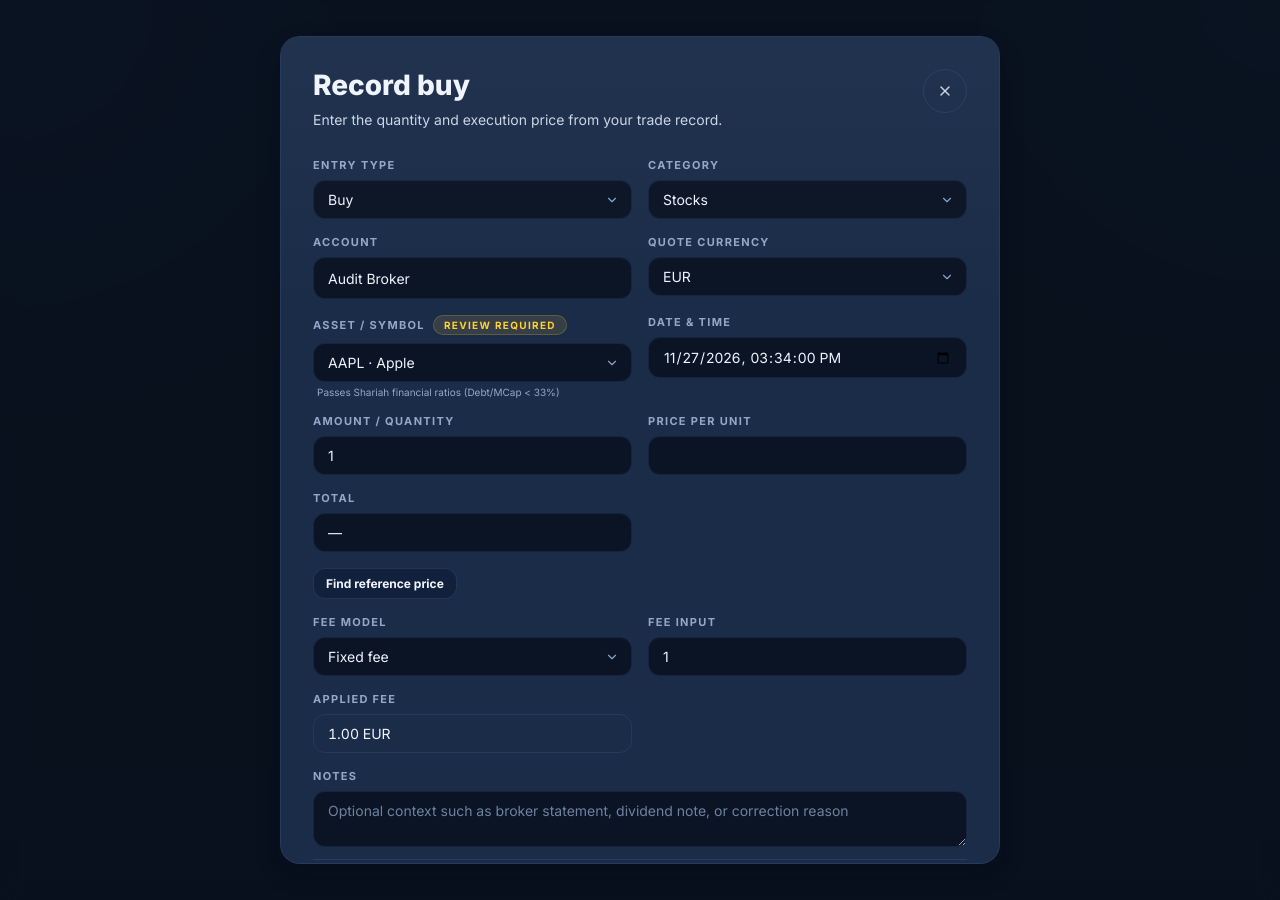
Scenario: cancels a pending reference during the funding handoff and resumes without a stuck lookup
This screenshot has width=1280, height=900.
Select "META · Meta Platforms" in the dropdown labelled "Asset / Symbol" at (472, 363), box [313,343,632,382]
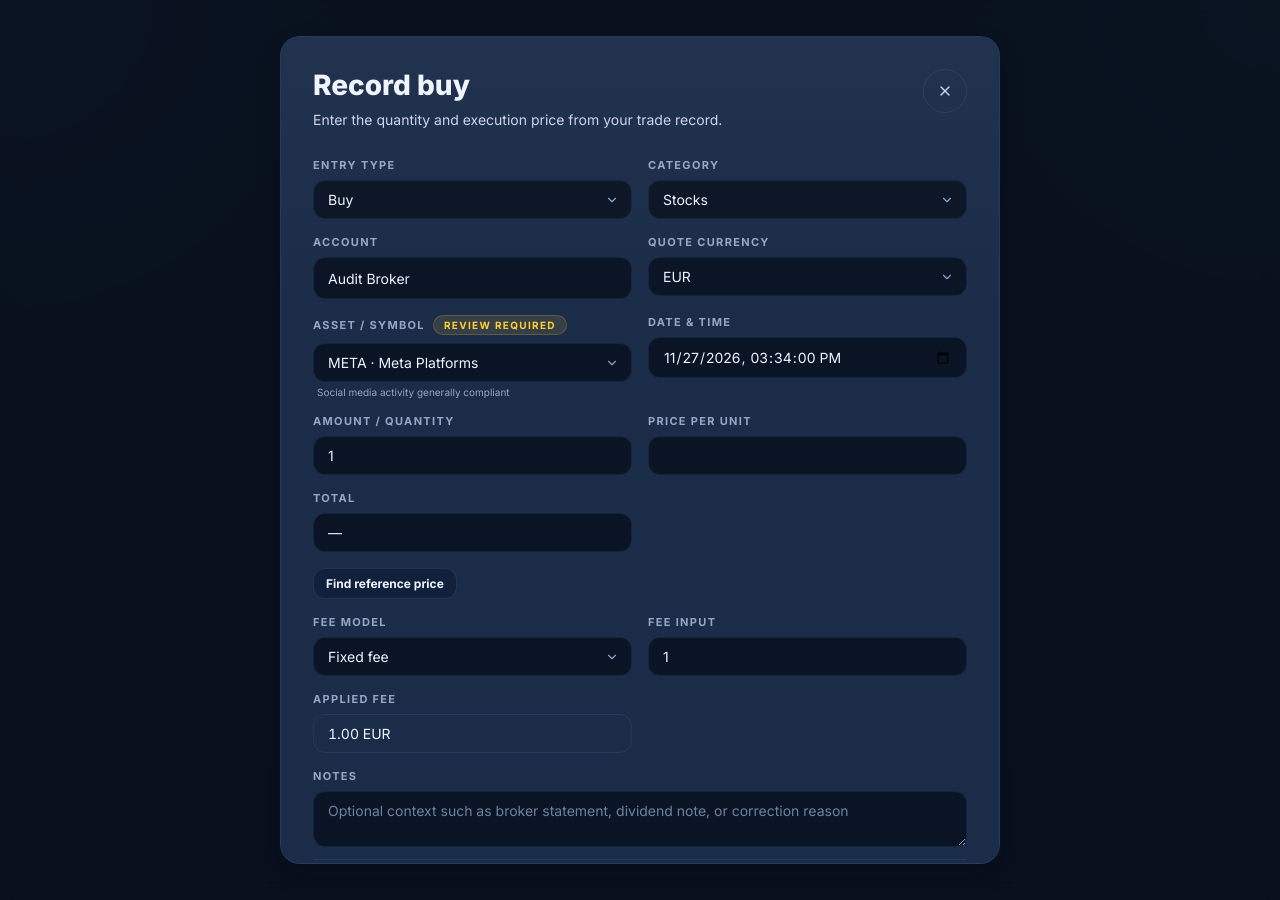
Replace the text in the field labelled "Date & Time" with "2024-11-20T19:33" at (808, 358), box [648,337,967,378]
Replace the text in the field labelled "Amount / Quantity" with "5" at (472, 456), box [313,436,632,475]
Type "23" into the field labelled "Price per Unit" at (808, 456), box [648,436,967,475]
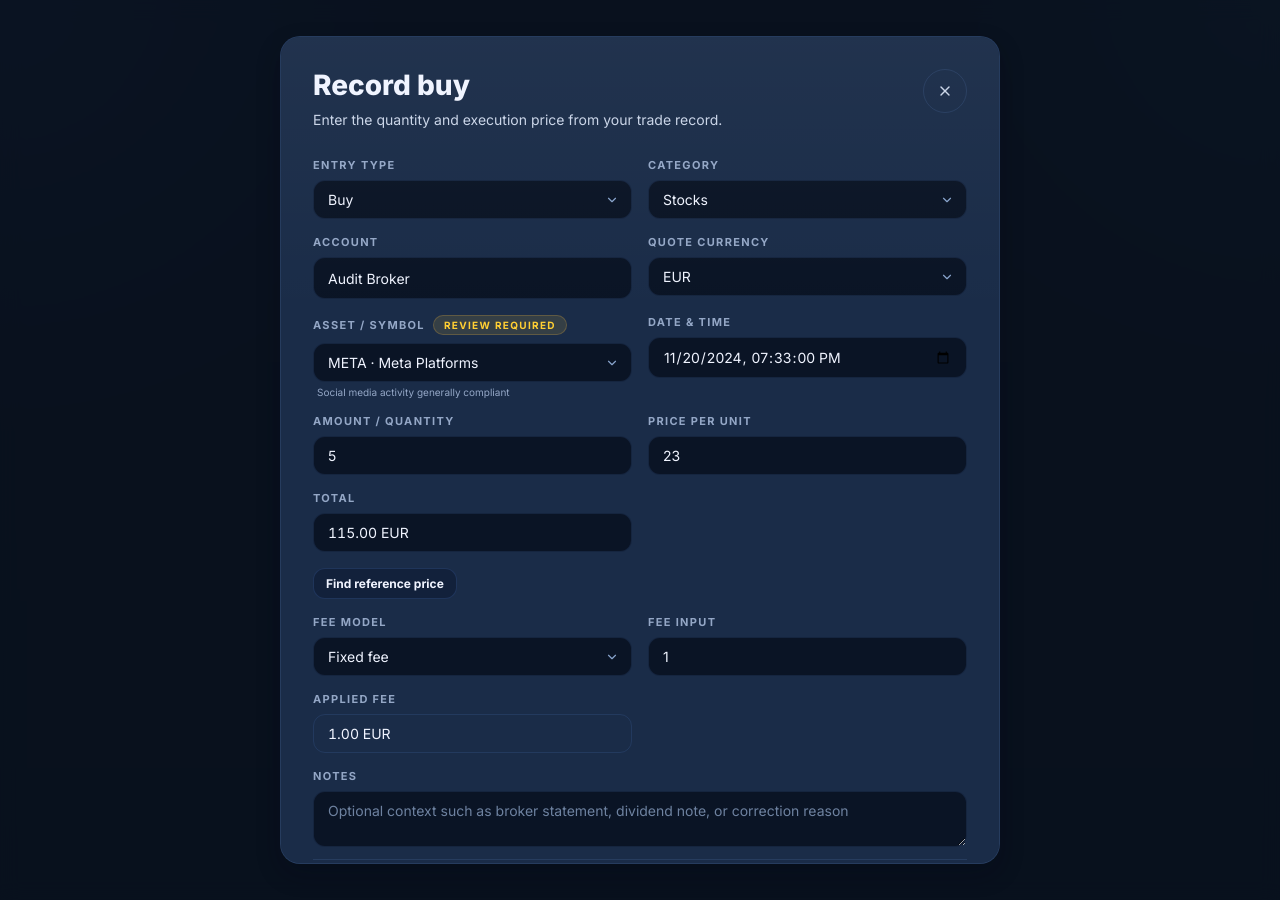
Click the button "Find reference price" at (385, 584), box [313,568,457,599]
(page scrolled)
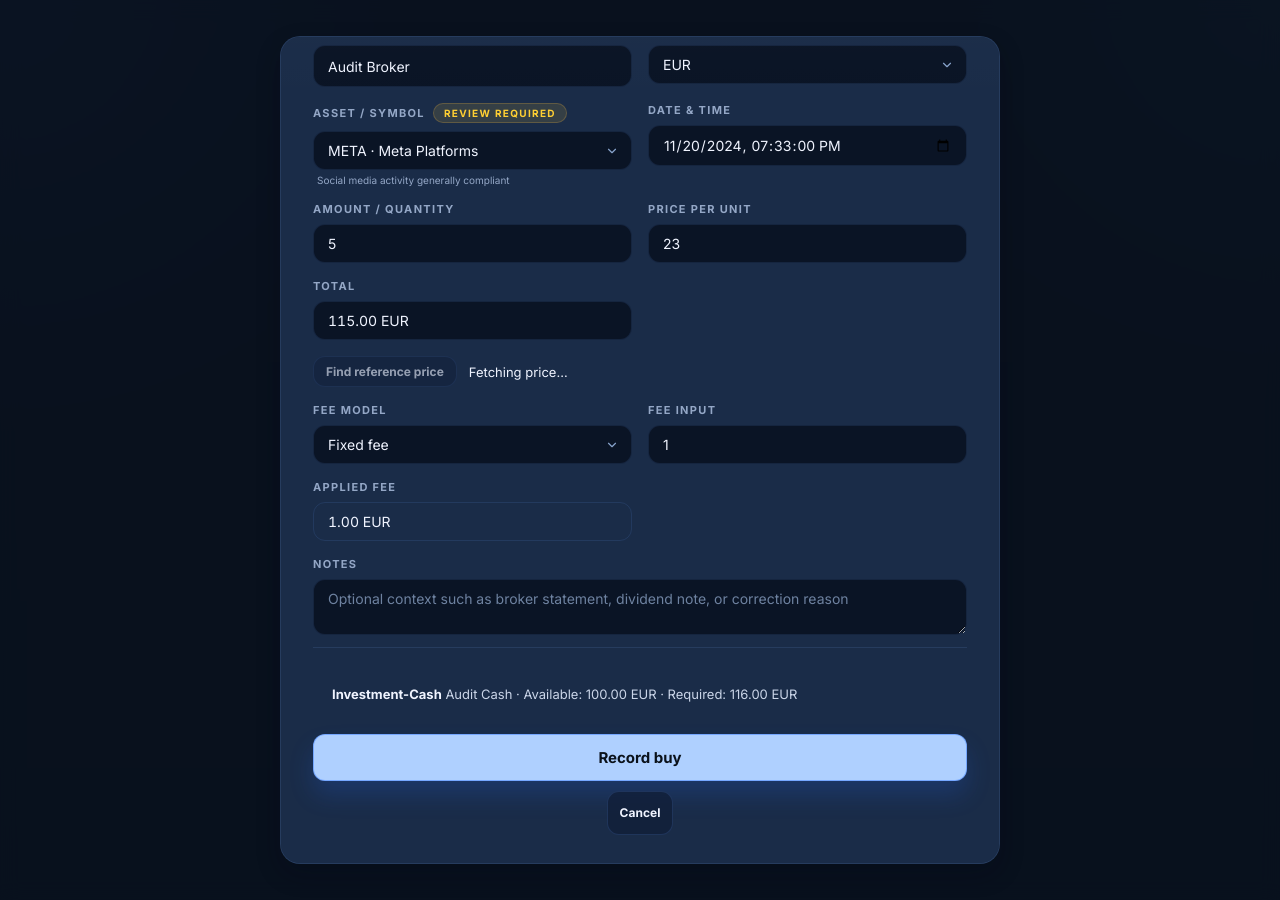
Click the button "Record buy" at (640, 757), box [313,734,967,781]
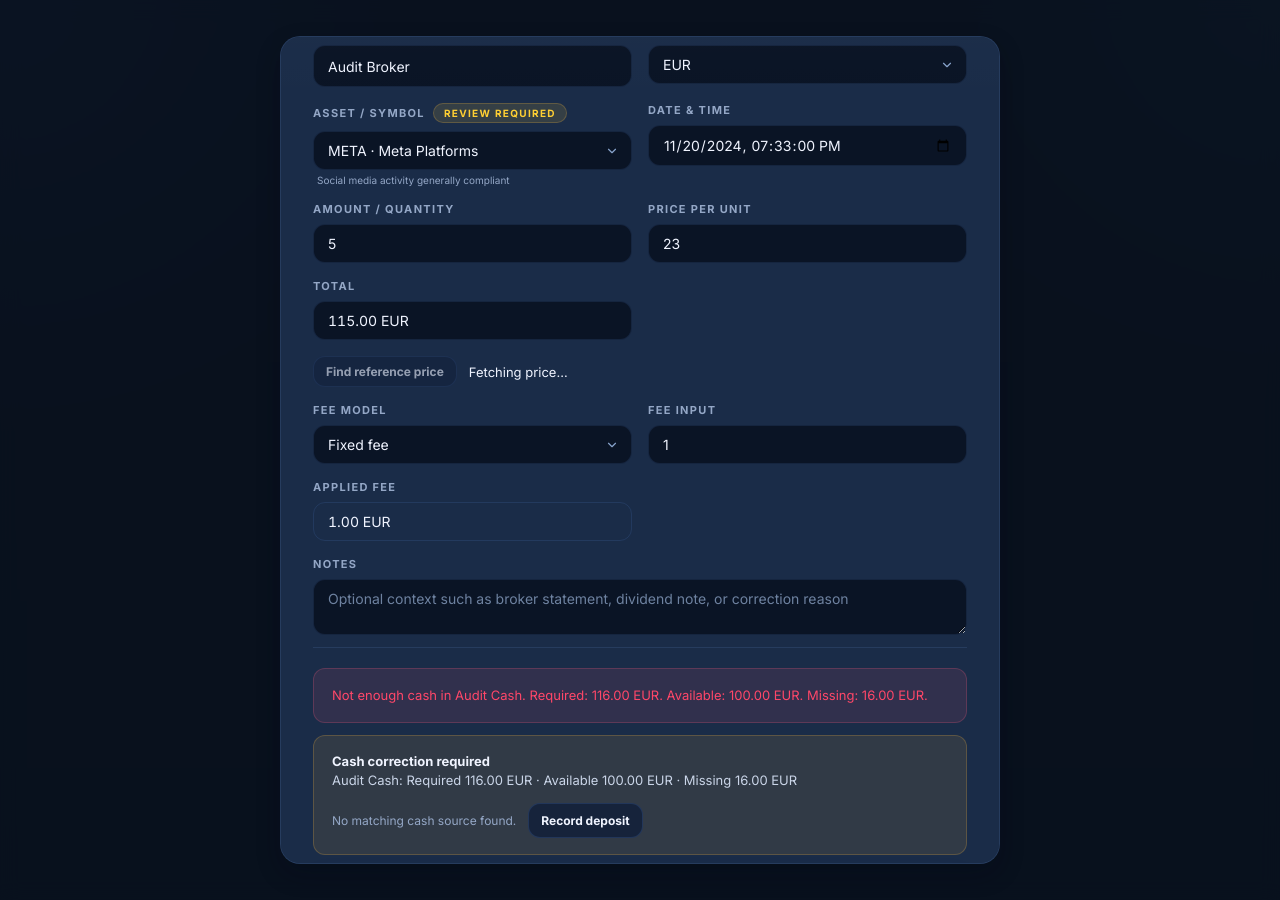
Click the button "Record deposit" at (585, 821), box [528,803,643,838]
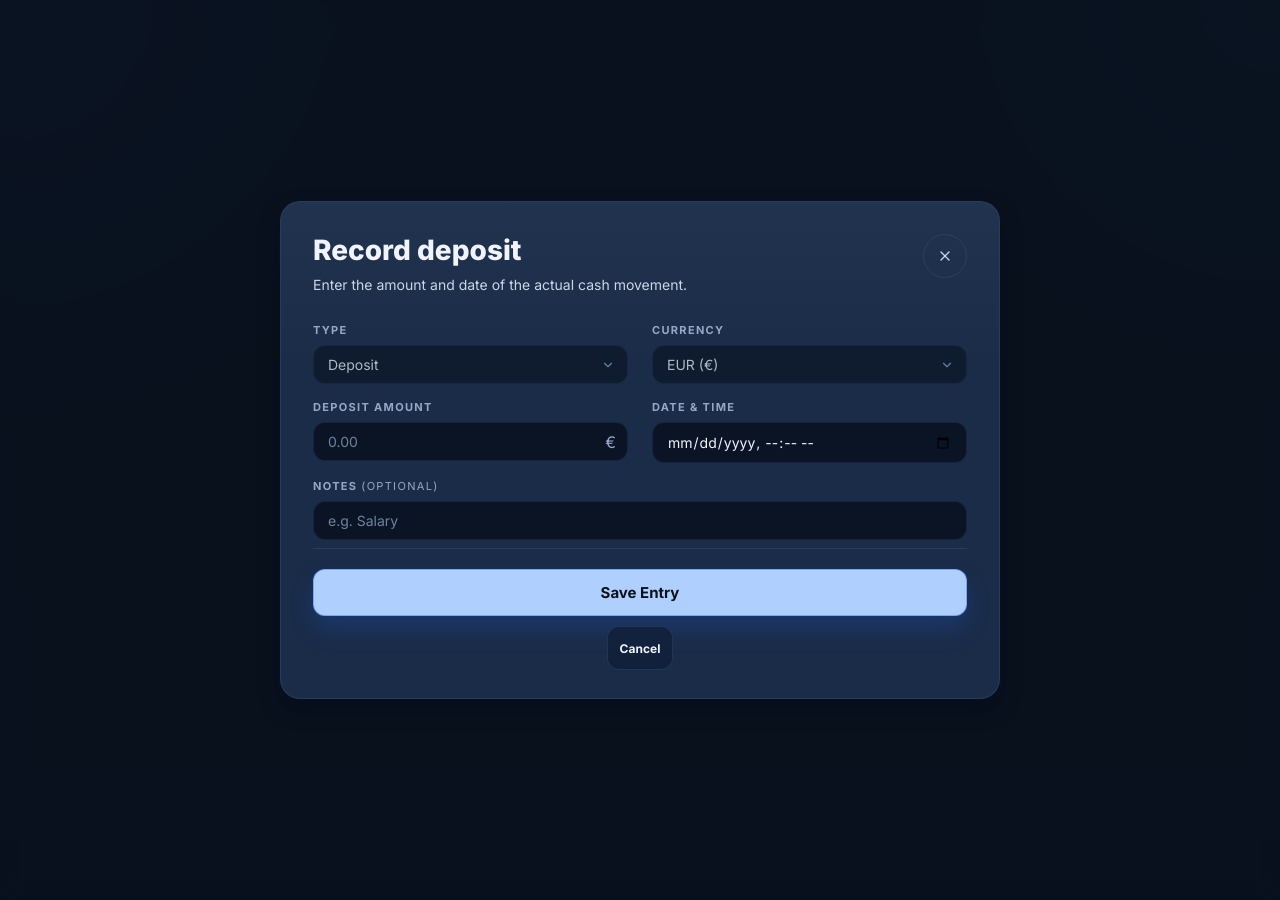
Click the button "Cancel" at (640, 648), box [607,626,673,670]
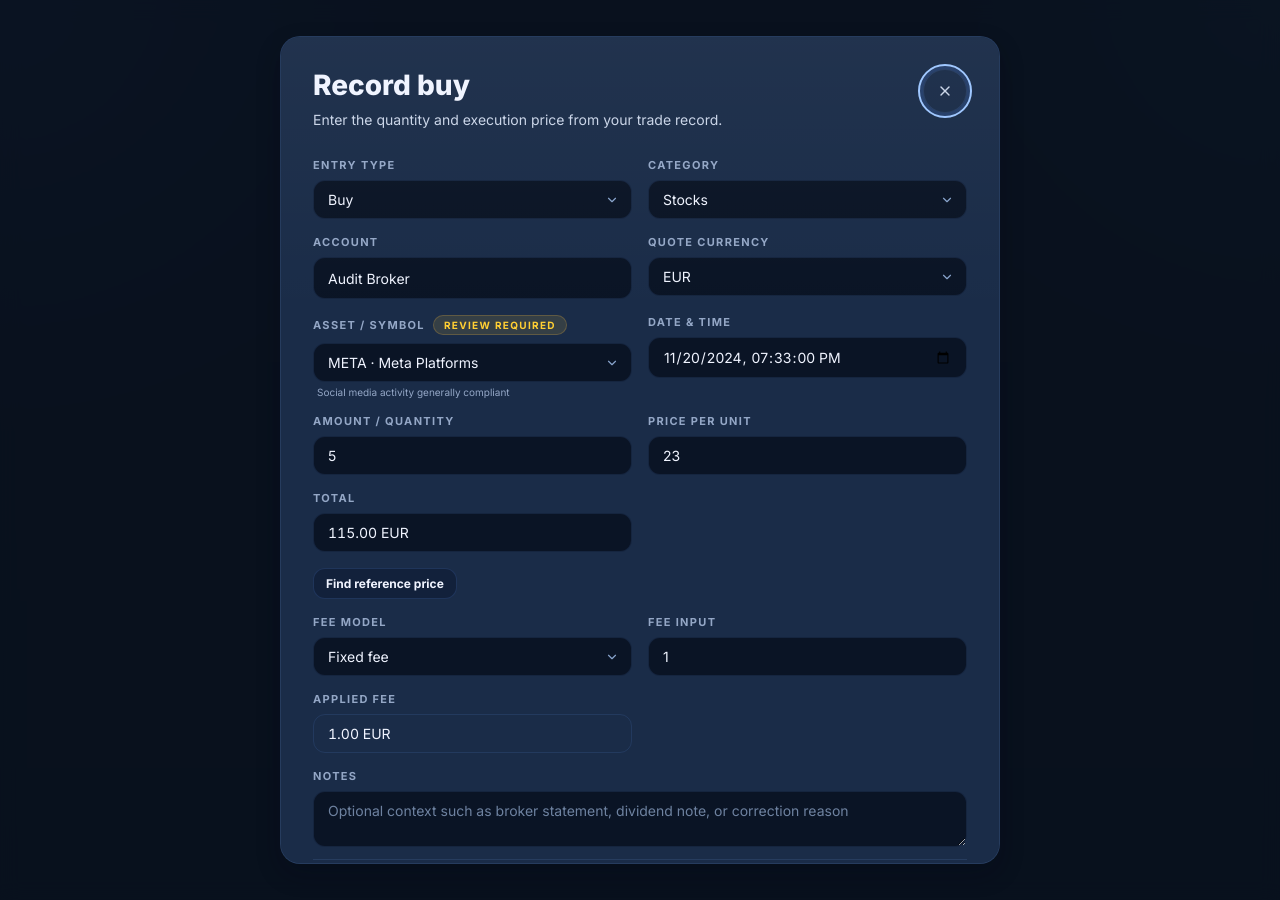
Now the button "Find reference price" is enabled, box [313,568,457,599]
Now the field labelled "Price per Unit" holds "23", box [648,436,967,475]
